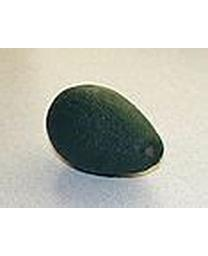avocado: (46, 83, 165, 179)
